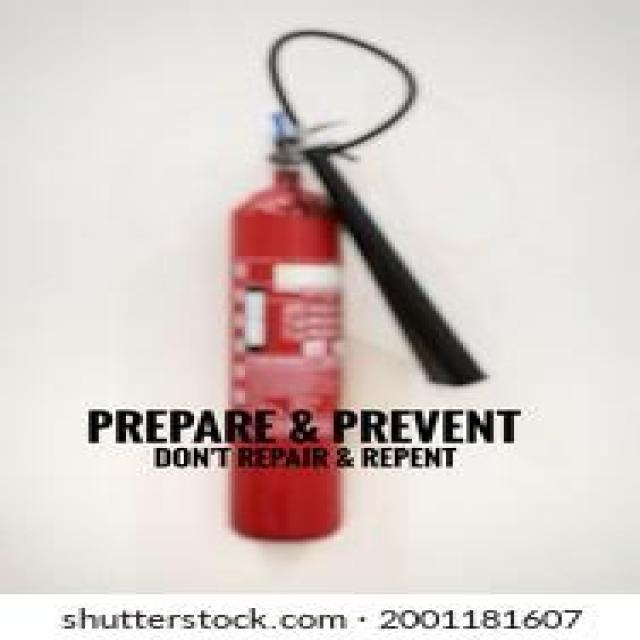fire_extinguisher: (204, 18, 490, 549)
